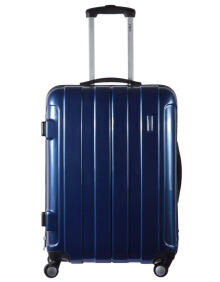luggage: (41, 0, 185, 280)
